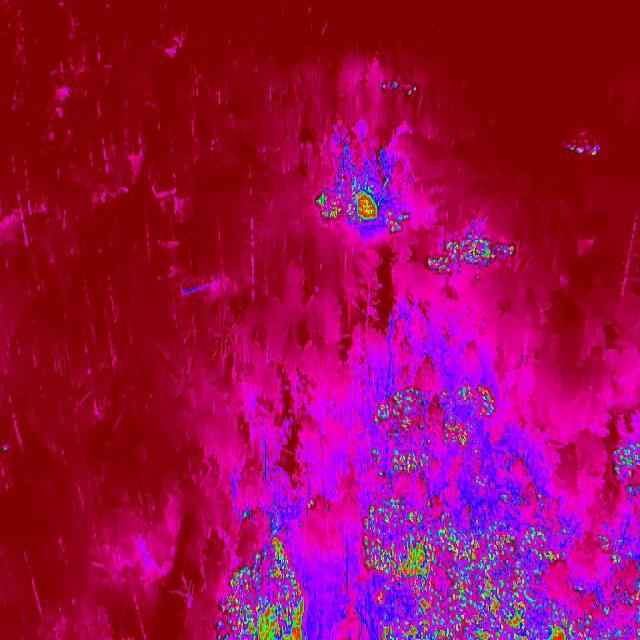fire: (352, 494, 595, 640), (367, 378, 497, 480), (214, 508, 314, 640), (313, 143, 415, 238), (424, 227, 524, 289), (607, 440, 640, 498), (594, 579, 640, 617), (562, 127, 606, 162), (601, 531, 637, 569), (379, 71, 421, 101), (599, 622, 640, 640)
